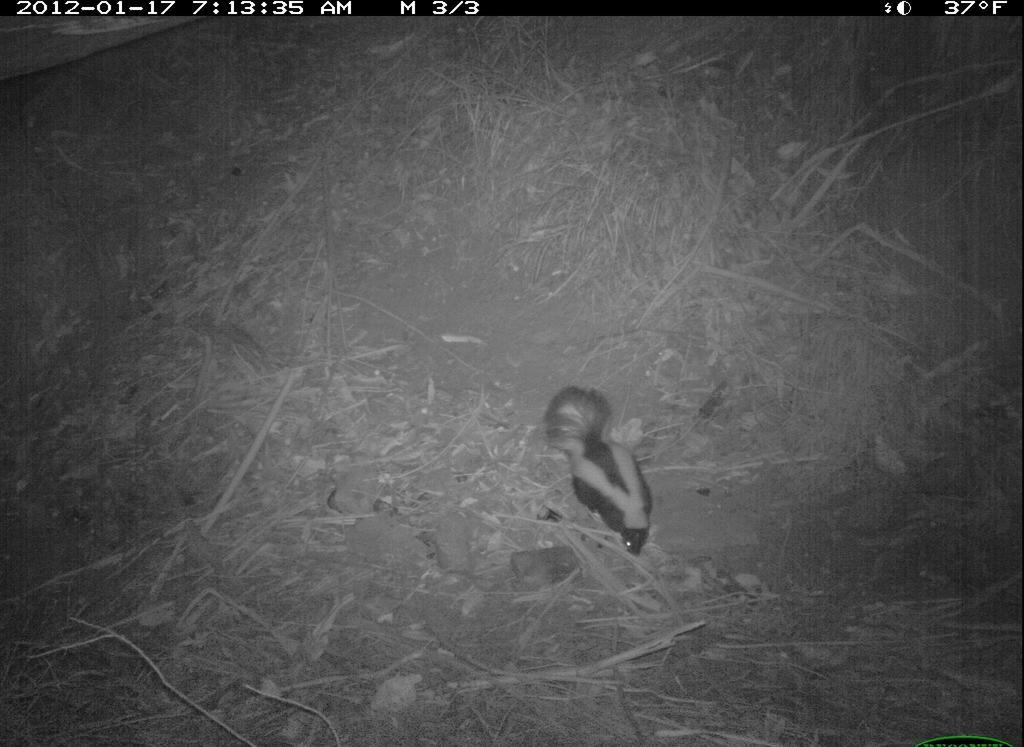skunk: (534, 369, 675, 560)
